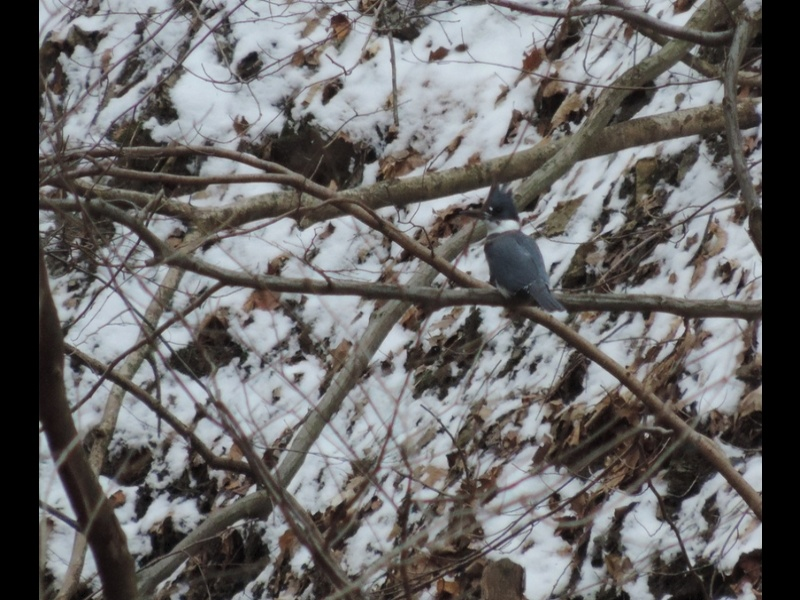kingfisher: (467, 189, 560, 315)
